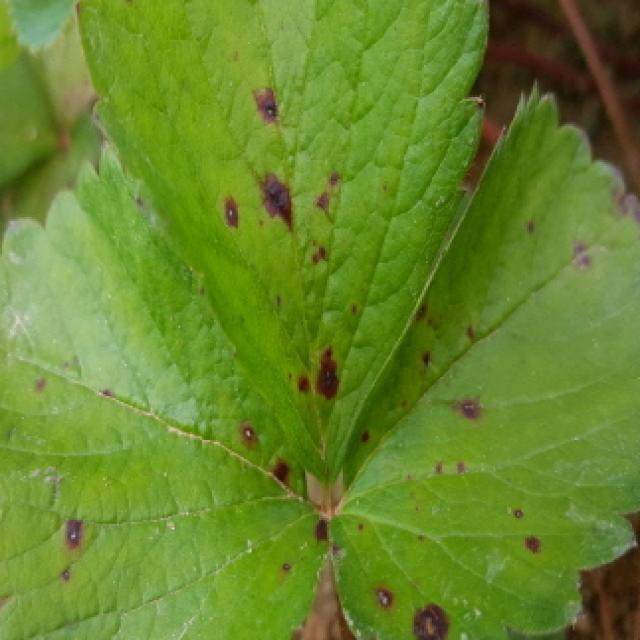Leaf Spot: (73, 0, 491, 488), (323, 77, 640, 640), (0, 136, 332, 640), (0, 8, 64, 190)
